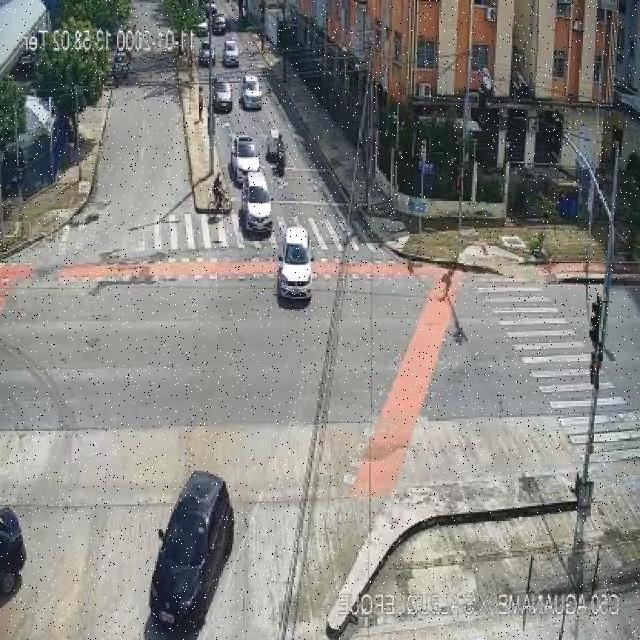Car: (148, 469, 235, 631), (278, 227, 315, 304), (240, 172, 274, 238), (229, 133, 260, 183), (237, 75, 265, 113), (212, 76, 233, 111), (222, 41, 240, 70)
Cycle: (274, 131, 289, 181)
